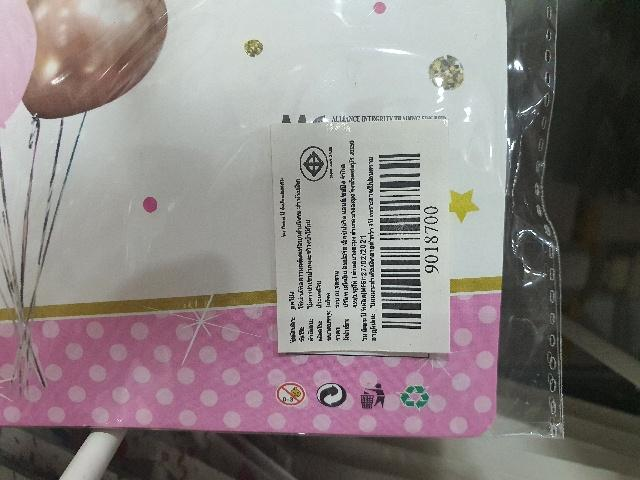Barcode: (376, 136, 444, 335)
